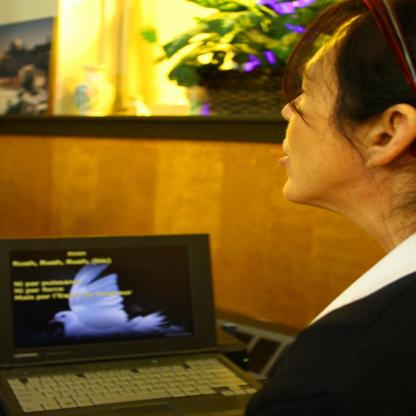board: (10, 229, 258, 416)
